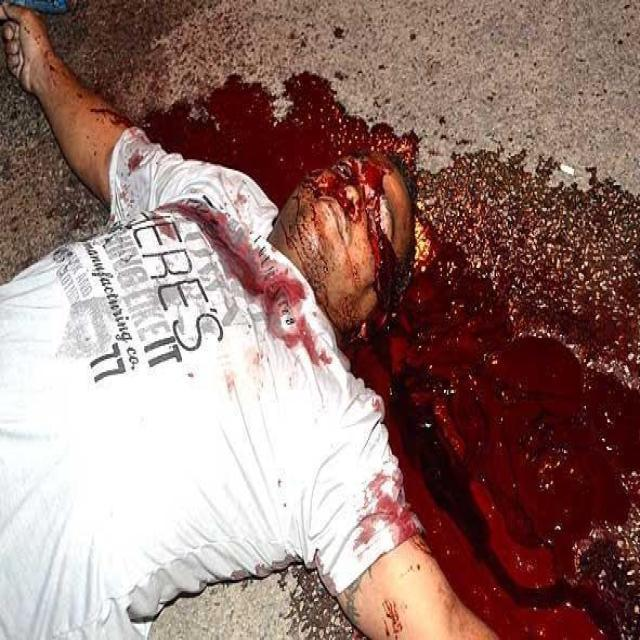flood: (324, 313, 626, 621), (132, 70, 408, 298)
